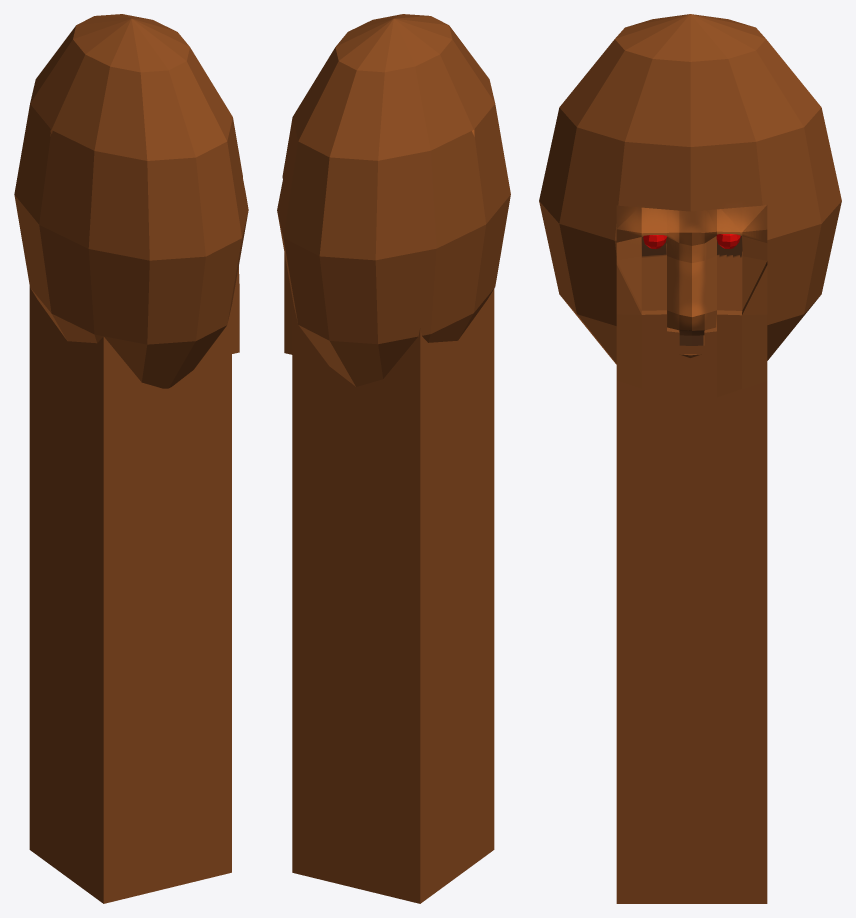
The model's file is idol_1.fbx.
3 views of the same model, side by side, from view 1: azimuth 30°, elevation 25°; view 2: azimuth 150°, elevation 25°; view 3: azimuth 270°, elevation 25° (orthographic).
Parts seen in each view (by area): view 1: Cube; view 2: Cube; view 3: Cube.
Boxes of the visible parts, left/top/right/bottom form: Cube: left=14, top=14, right=248, bottom=903; Cube: left=277, top=14, right=510, bottom=903; Cube: left=539, top=14, right=841, bottom=903.
Bounding box in the file's own units: 281 × 1256 × 402.
Materials: 2 (1 with a texture image).
